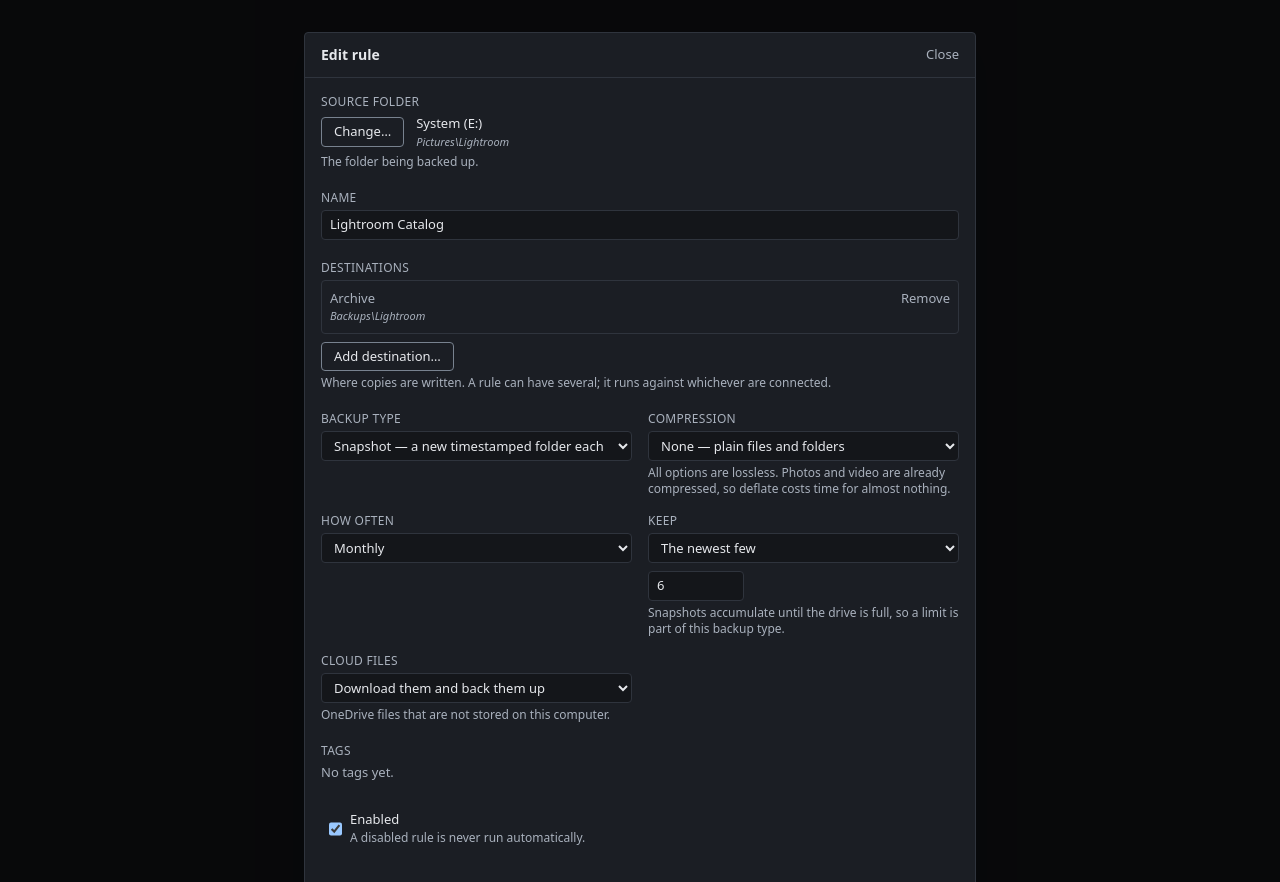
Scenario: RuleEditor › says a mirror will remove files, before the rule is saved
Select "Mirror — keep the destination matching the source" in the dropdown labelled "Backup type": point(476, 446) [321,431,632,461]
(page scrolled)
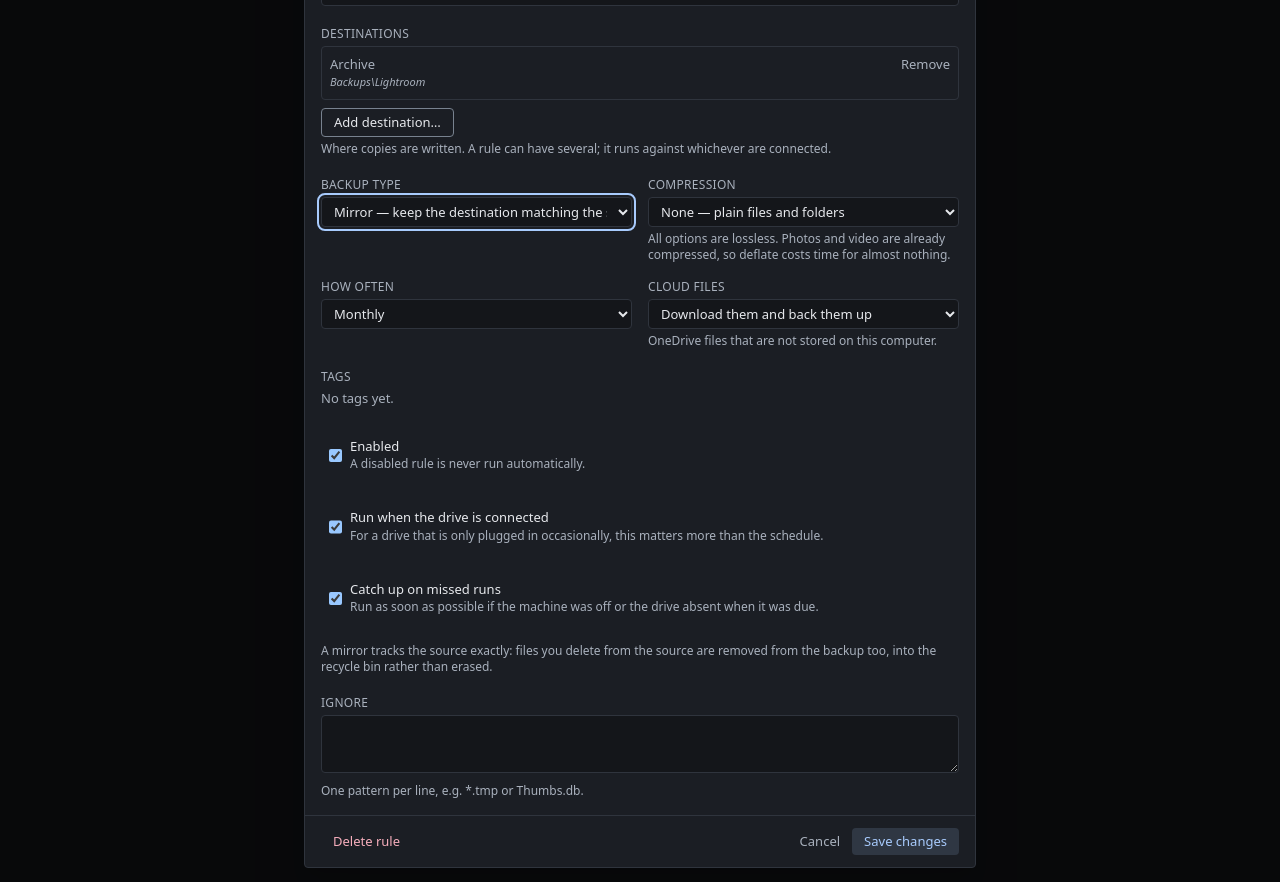
Now the text "recycle bin rather than erased" is shown, box [321,642,936,675]
